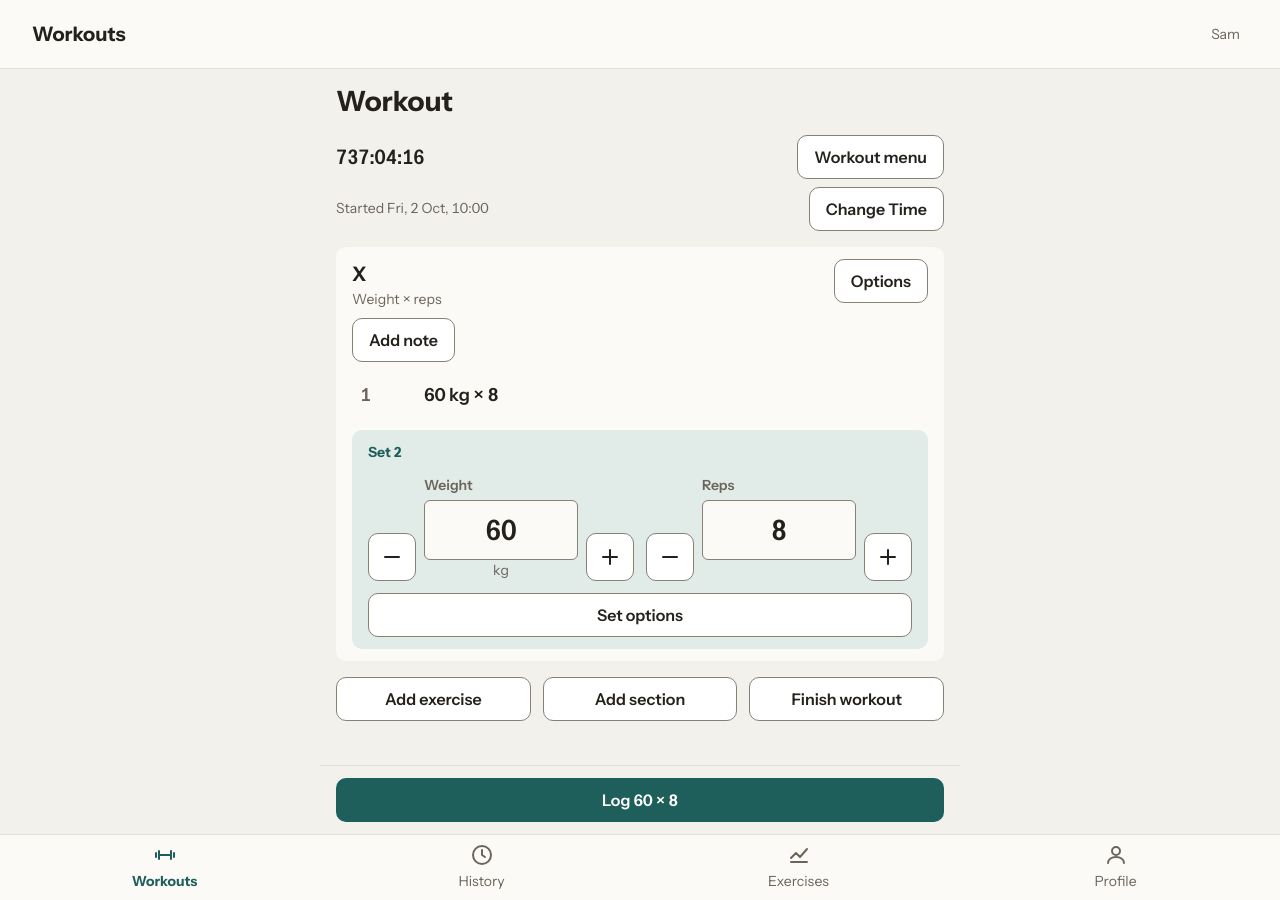
Test: AC26 — Finish: confirm and success › shows one exercise and one set as figures (17.2 AC1)
Check: the heading "Workout" is shown, box [336,84,453,118]
Click the button "Finish workout".
click(847, 699)  # box [749,677,944,721]
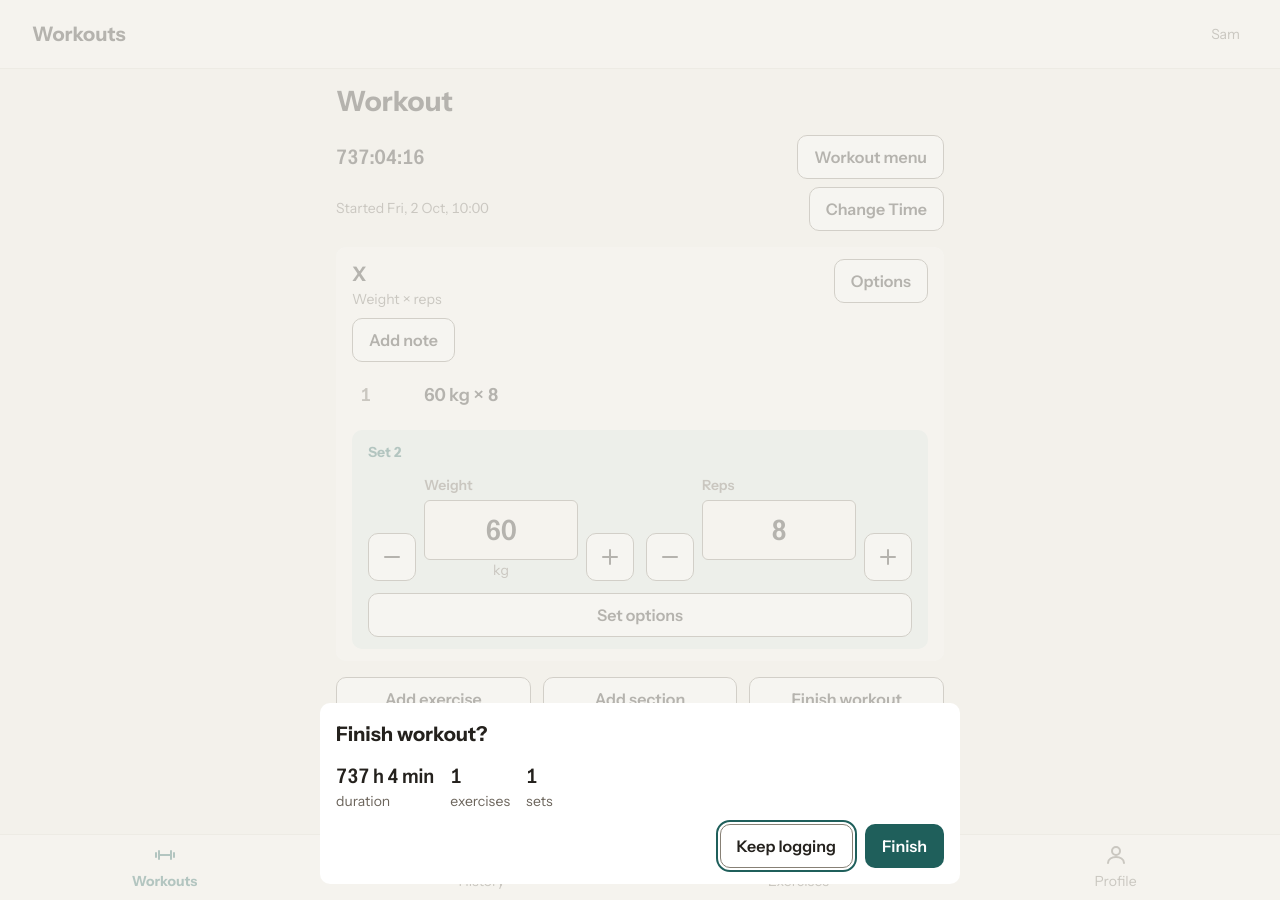
Check: the dialog "Finish workout?" does not show "can't be edited", box [320,703,960,884]
Check: the 2nd text "1" is shown, box [526,764,537,788]
